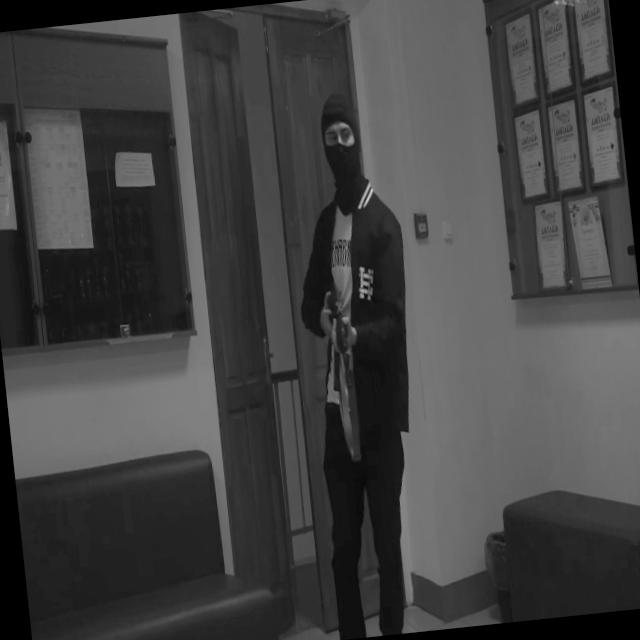gun: (318, 250, 355, 394)
person with a gun: (278, 89, 443, 640)
